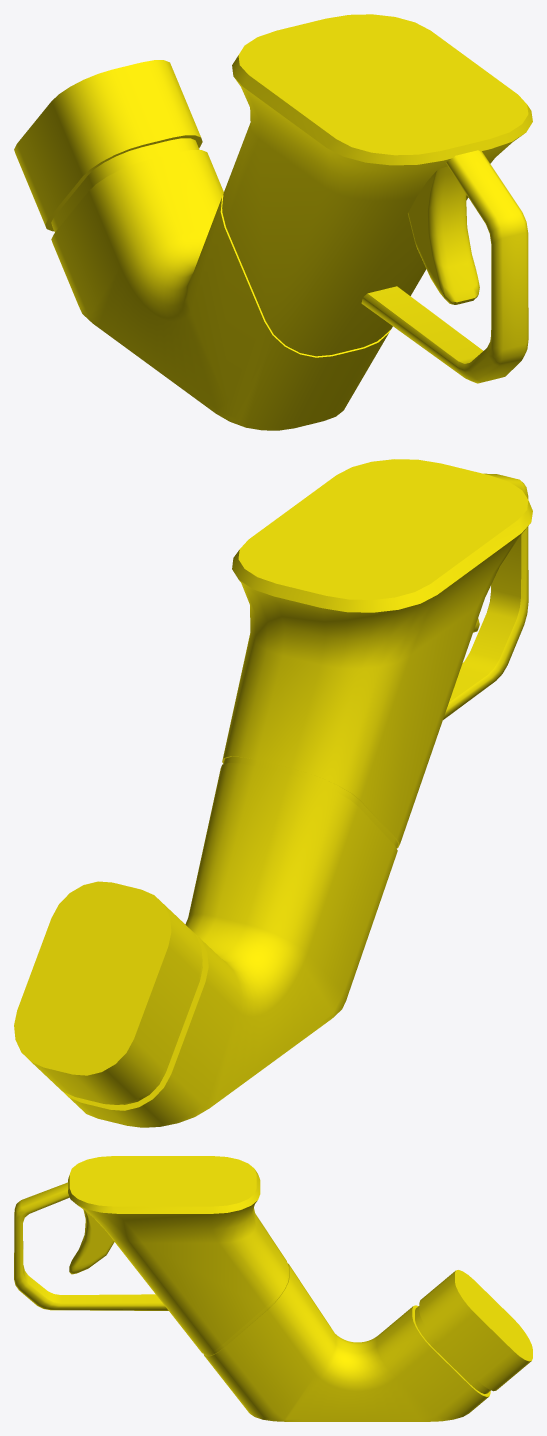
Rendered from part_gripp_02.fbx.
3 views of the same model, one above another, from view 1: azimuth 30°, elevation 25°; view 2: azimuth 150°, elevation 25°; view 3: azimuth 270°, elevation 25° (orthographic). The views are drawn at different scales.
Parts seen in each view (by area): view 1: part_gripp_02; view 2: part_gripp_02; view 3: part_gripp_02.
Part boxes in pixels (x1,y1,x2,y2): part_gripp_02: (14, 14, 532, 430); part_gripp_02: (14, 459, 532, 1127); part_gripp_02: (14, 1156, 532, 1421).
Bounding box in the file's own units: 6.67 × 12.9 × 27.04.
